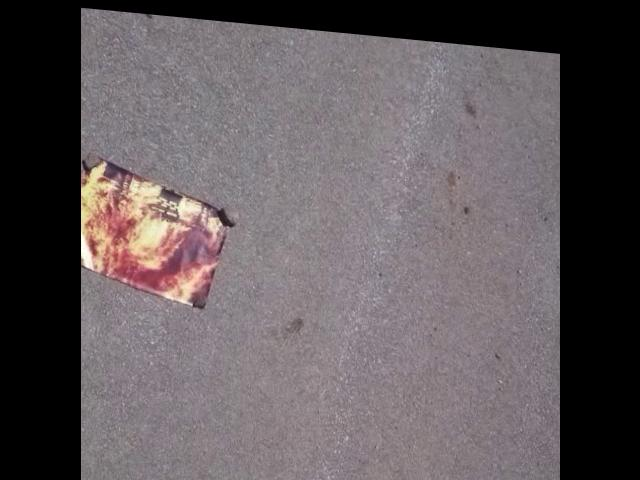fire-poster: (81, 153, 236, 311)
